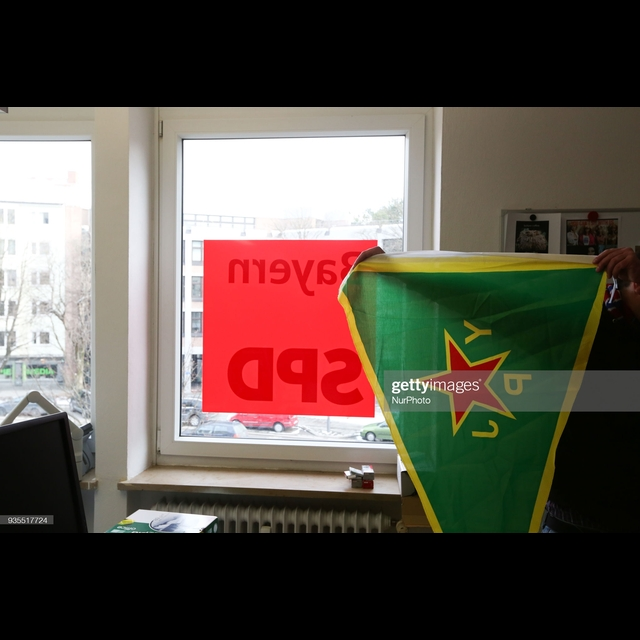YPJ: (433, 305, 534, 452)
